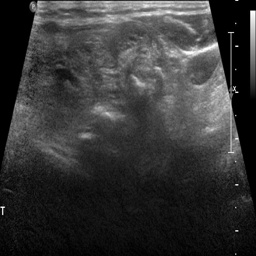mass: (34, 26, 165, 159)
